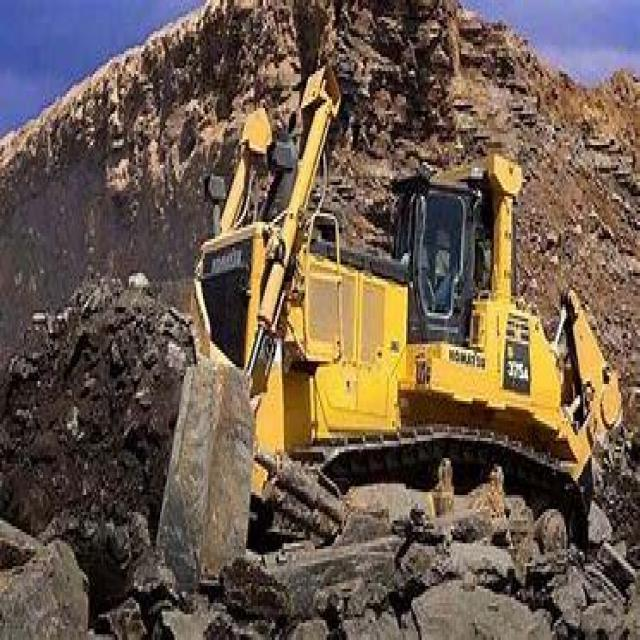Bulldozer: (107, 57, 631, 586)
